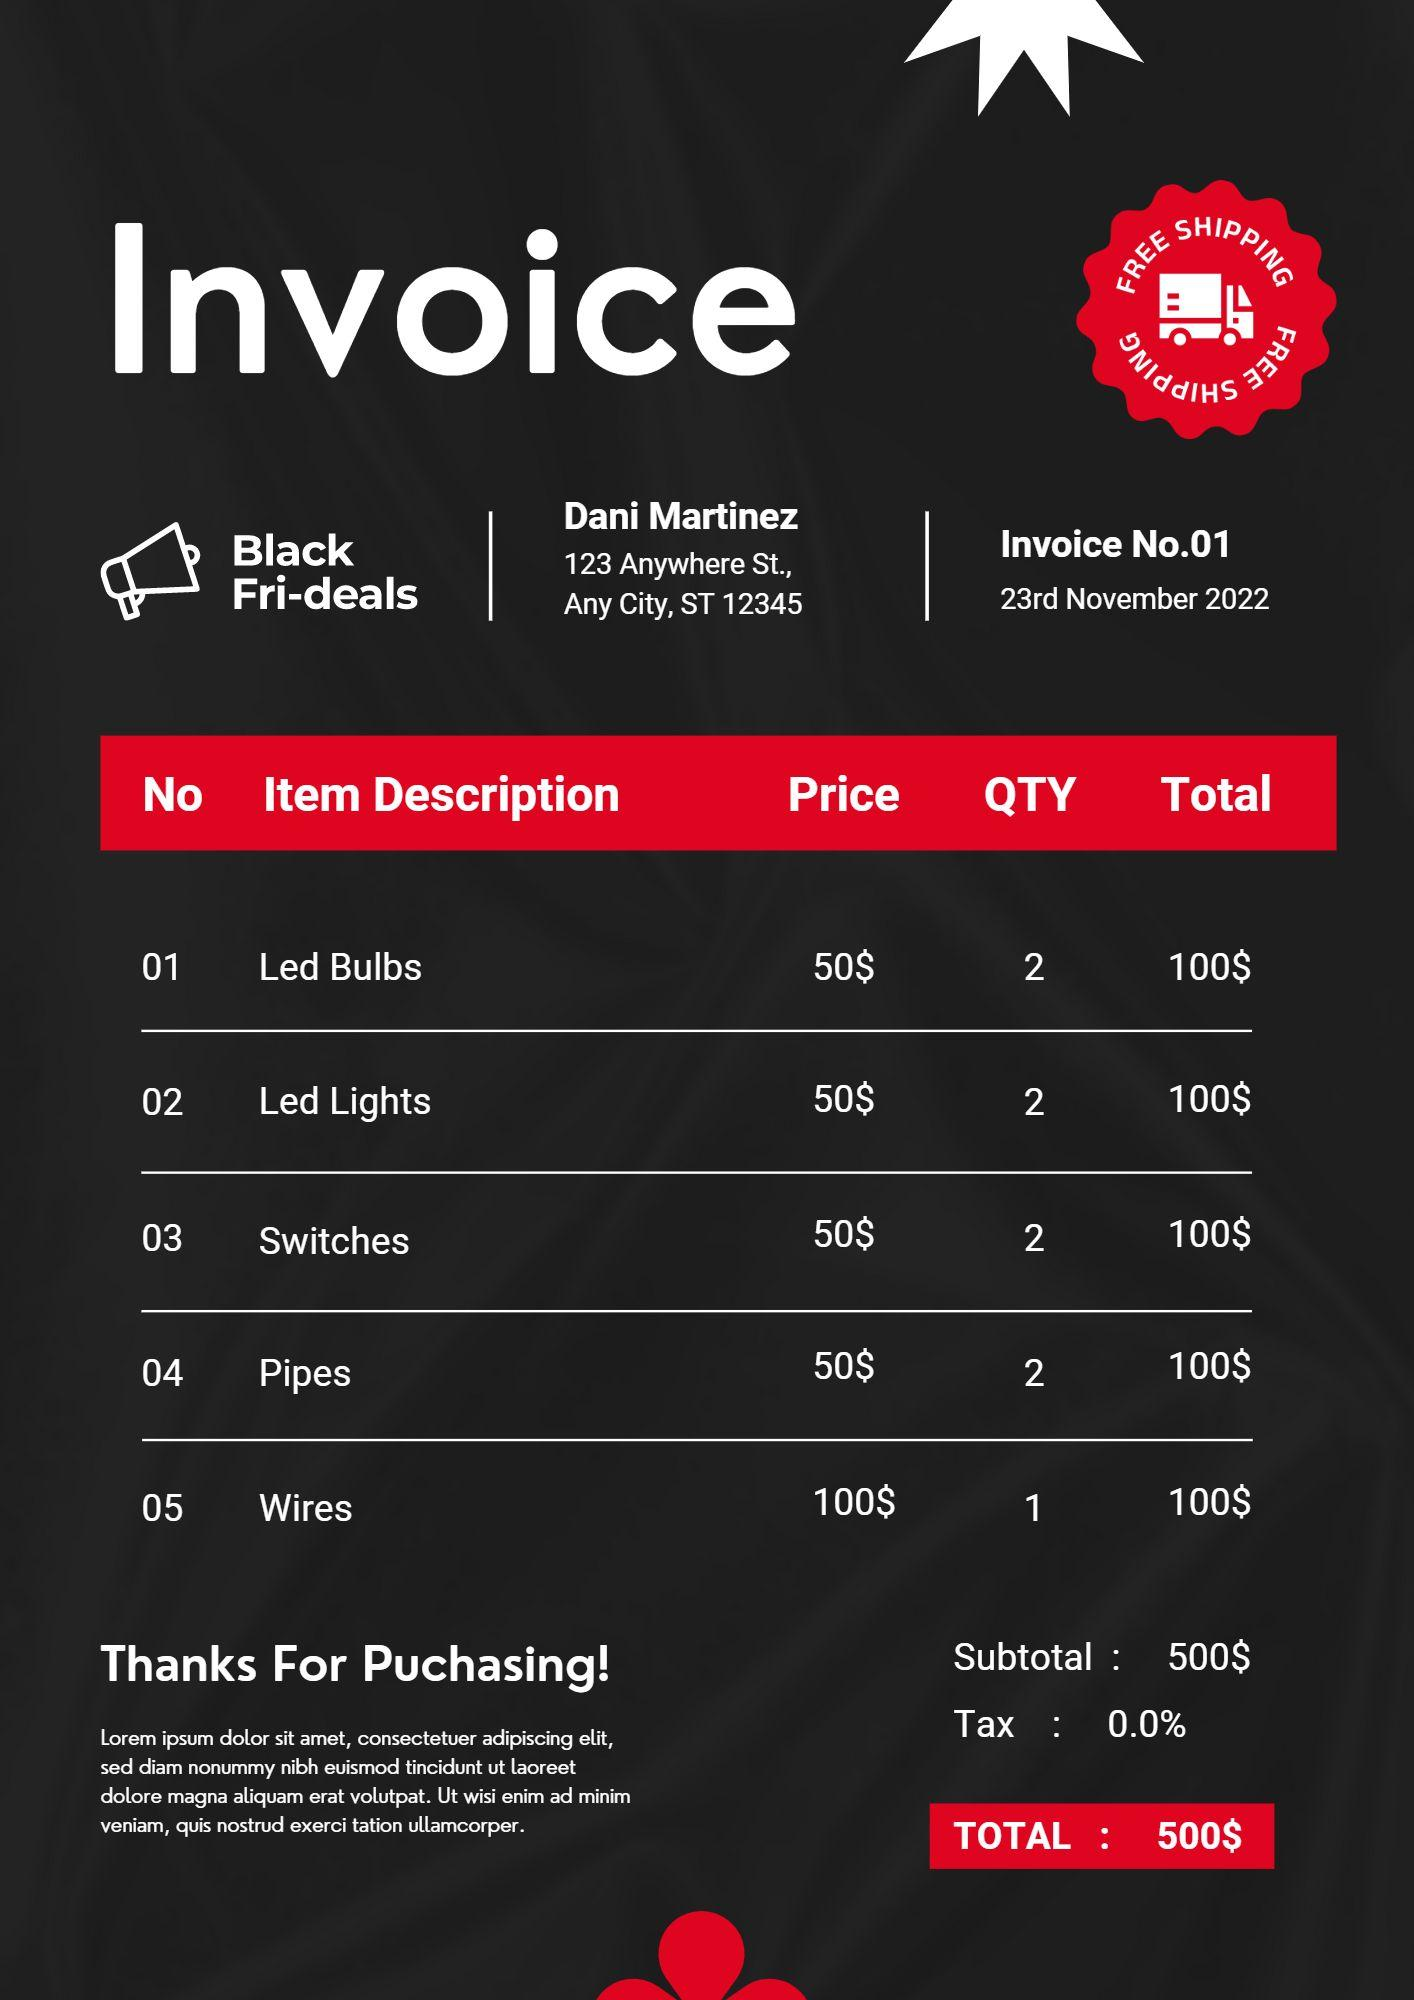ROI: (106, 725, 1311, 1591)
